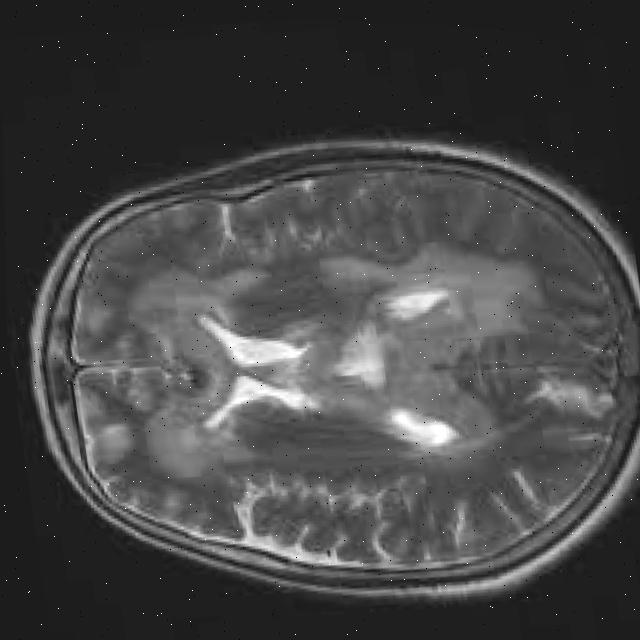NoTumor: (2, 85, 640, 640)
